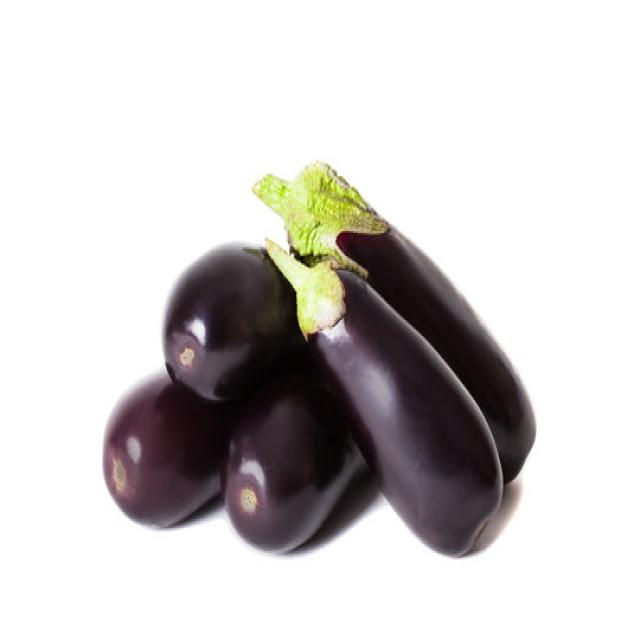Eggplant: (261, 234, 504, 556), (219, 368, 369, 555), (160, 238, 305, 406), (101, 363, 225, 528)
